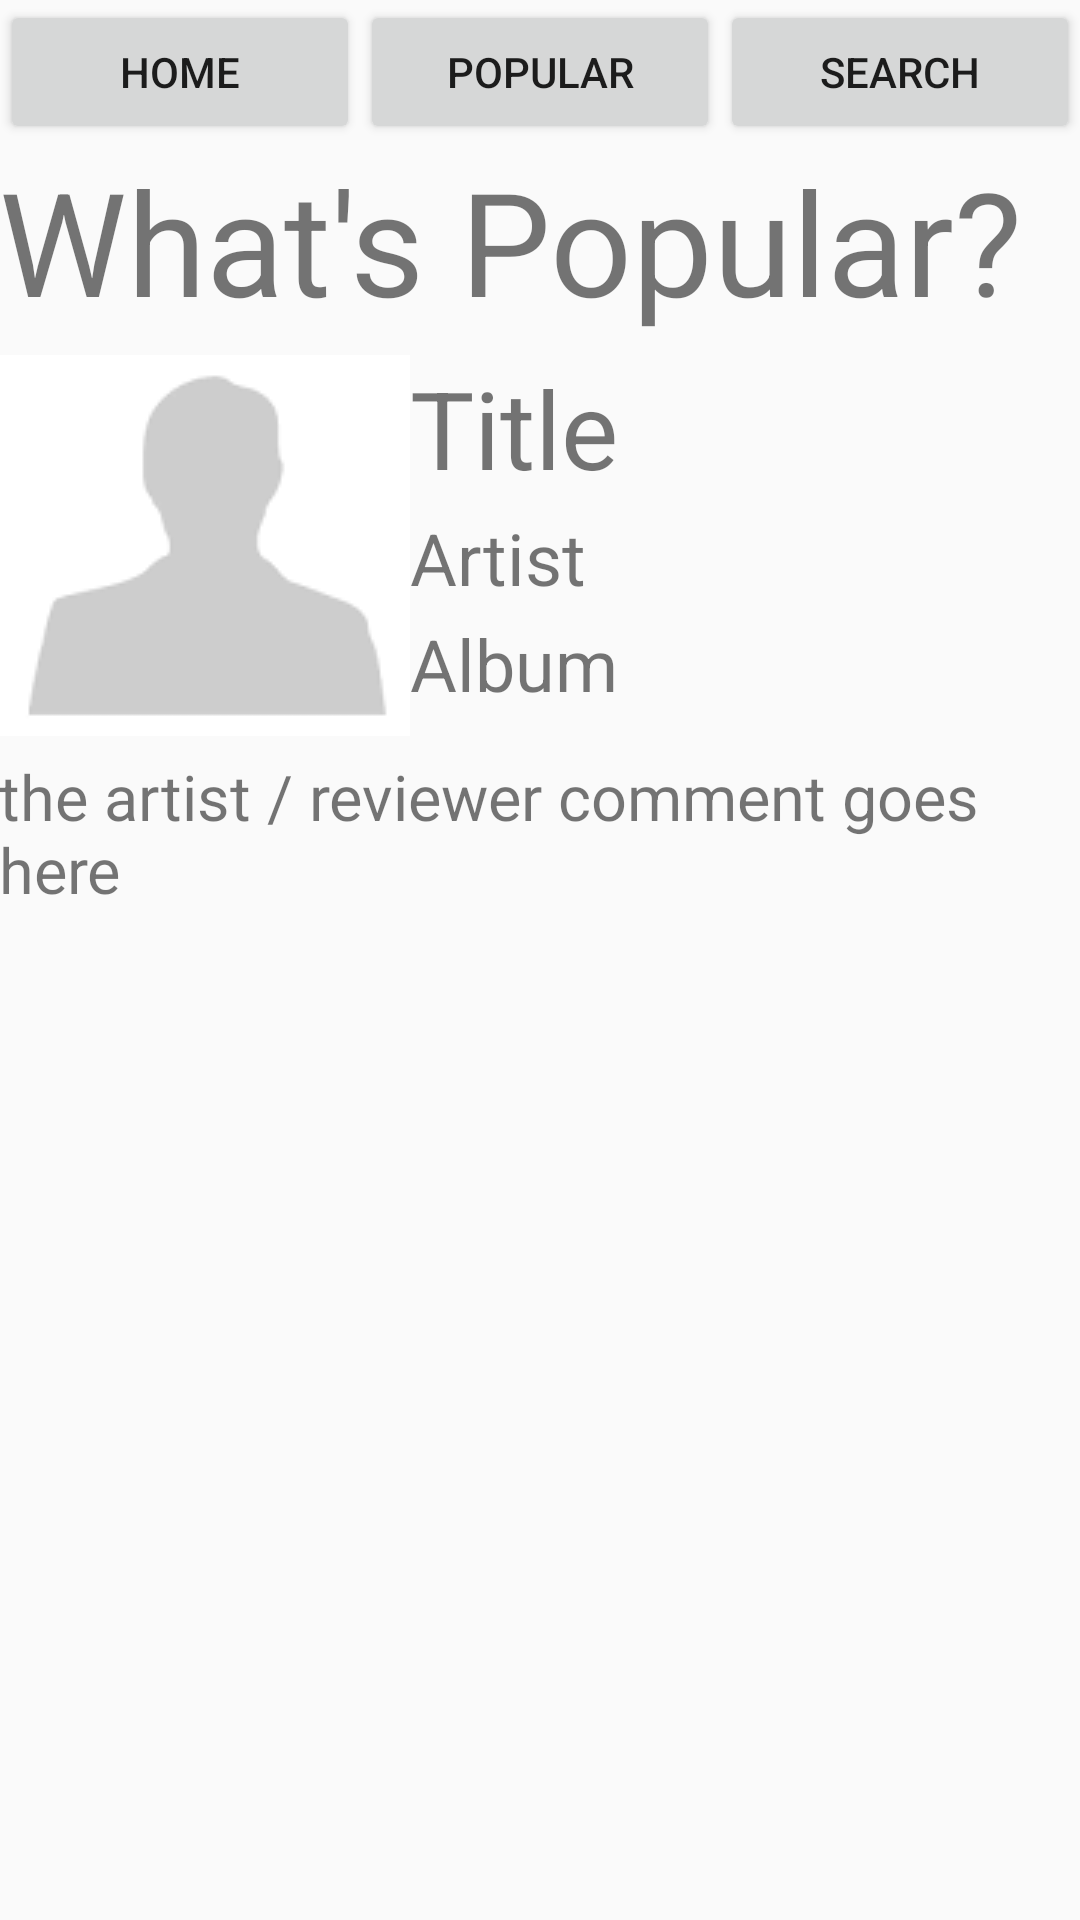

Icon bounding boxes for this 1080 × 1920 phone screenshot, format (x1, y1, x2, y2):
person: (29, 376, 386, 715)
